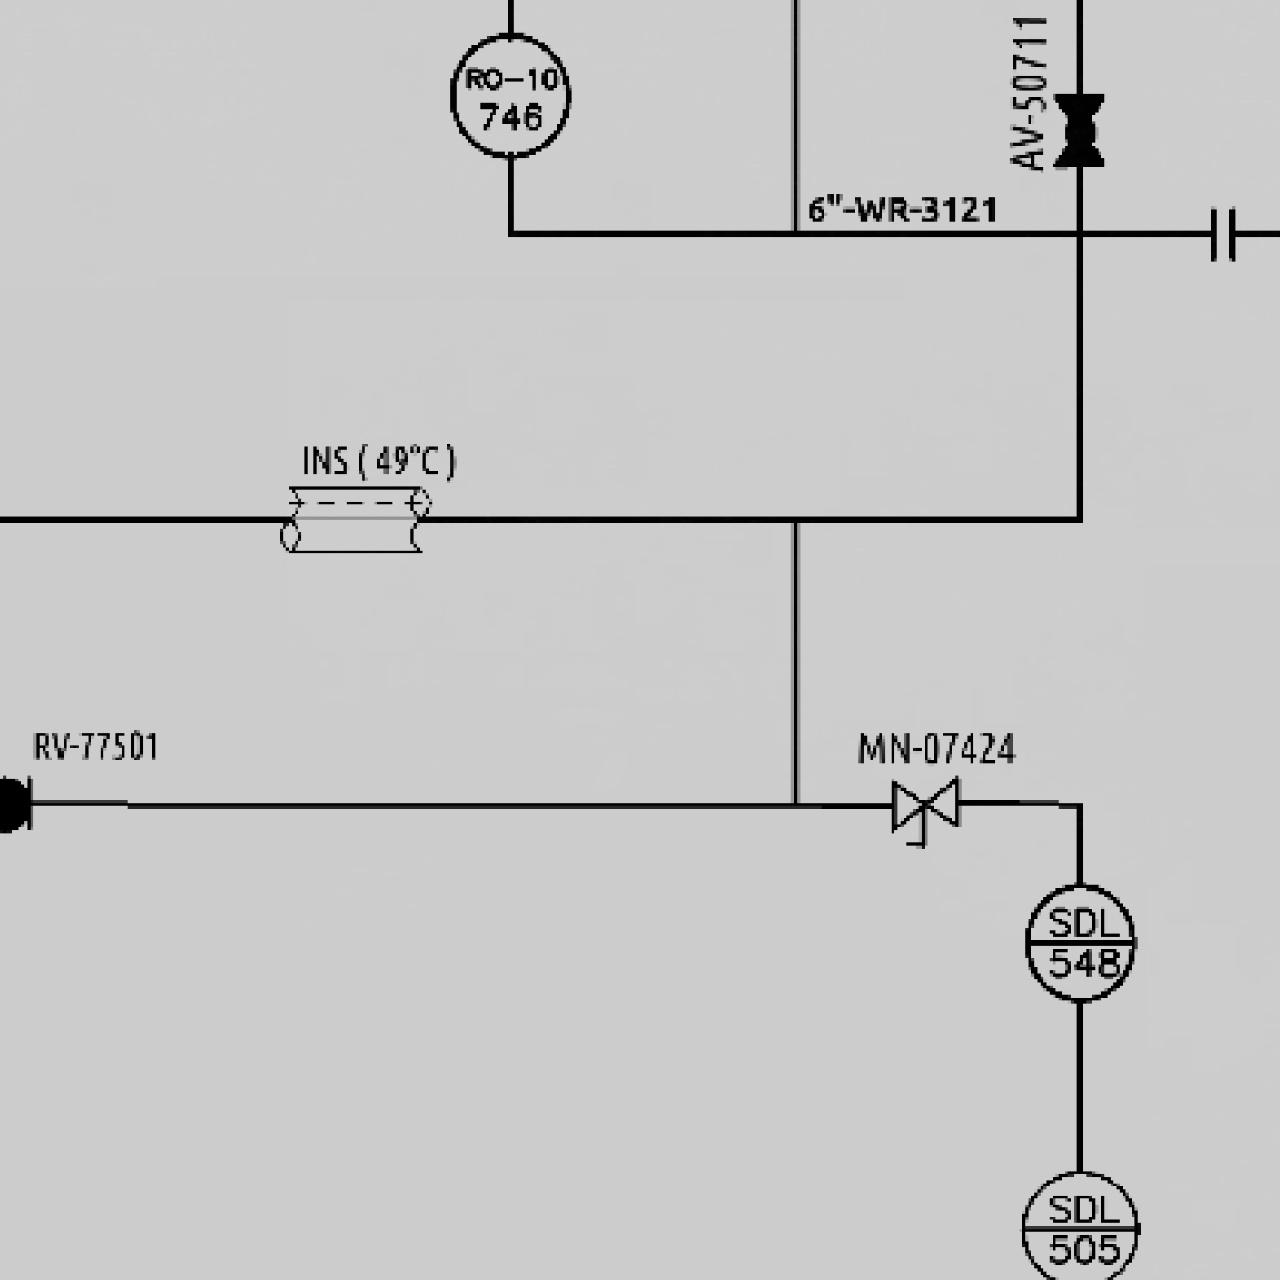Control-Panel: (442, 28, 576, 162)
